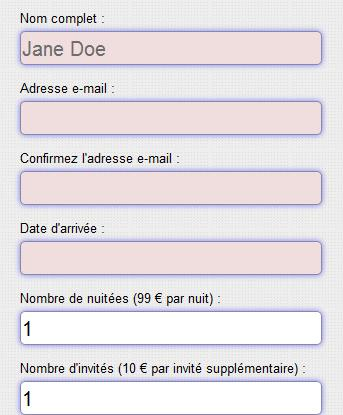field: (17, 168, 325, 210), (16, 238, 324, 279), (17, 309, 327, 348), (18, 29, 322, 68), (19, 99, 323, 138)
field_with_label: (16, 80, 326, 141), (14, 151, 327, 211), (13, 222, 326, 282), (15, 292, 329, 350), (15, 11, 324, 69)
